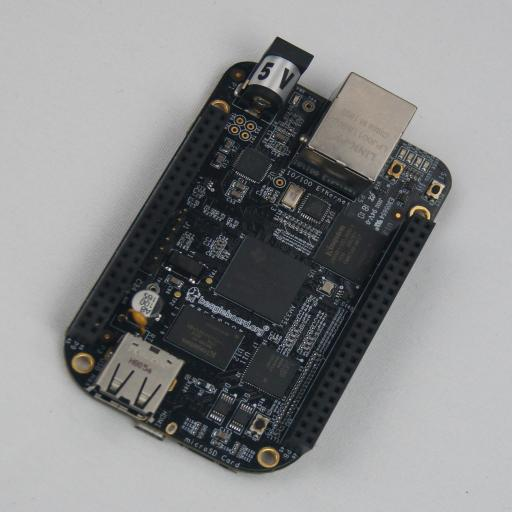Beaglebone Black: (63, 36, 451, 474)
